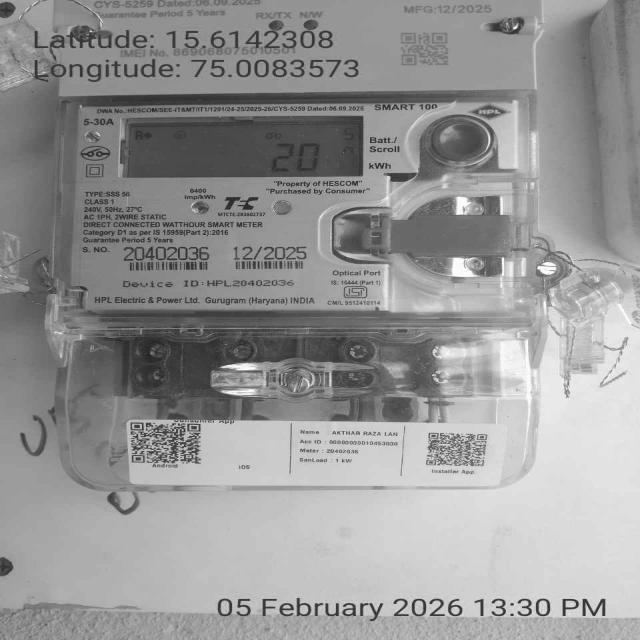meter: (53, 0, 541, 311)
